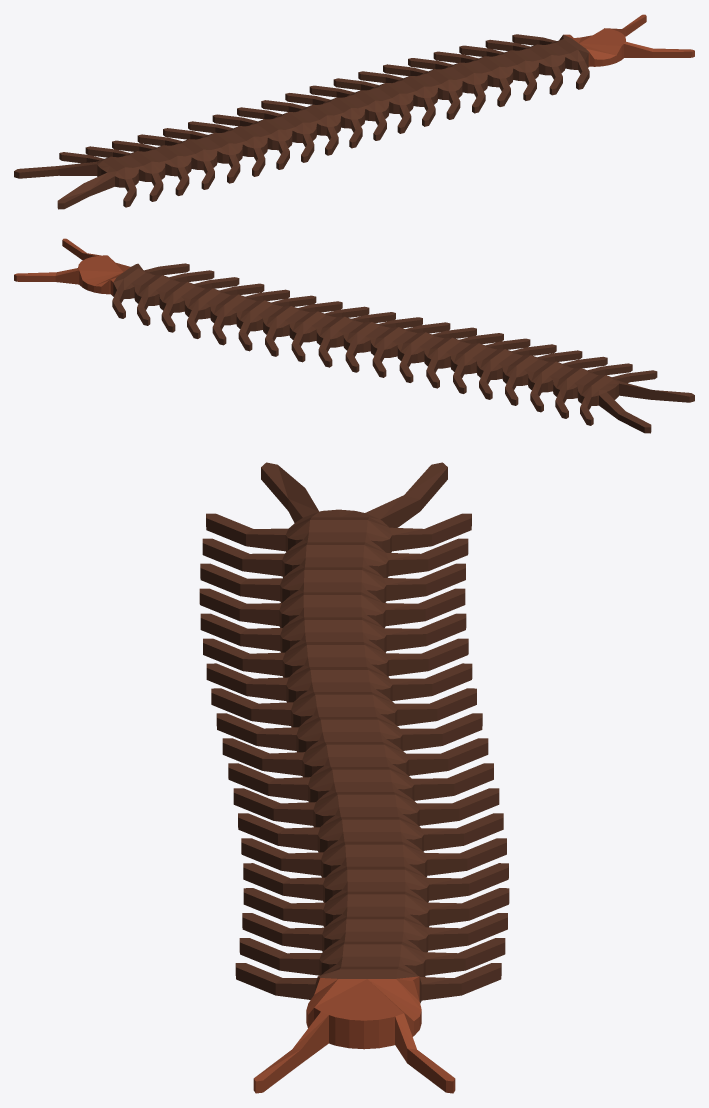
Rendered from NEW_RECOVERY_057_LOD0.glb.
3 renders of one model, top to bottom at view 1: azimuth 30°, elevation 25°; view 2: azimuth 150°, elevation 25°; view 3: azimuth 270°, elevation 25°, orthographic. The views are drawn at different scales.
Visible parts, largest first — view 1: Centipede_Whole; view 2: Centipede_Whole; view 3: Centipede_Whole.
Part boxes in pixels (bbox=[...]): Centipede_Whole: bbox=[14, 14, 694, 209]; Centipede_Whole: bbox=[14, 238, 694, 433]; Centipede_Whole: bbox=[199, 462, 509, 1093].
Bounding box in the file's own units: 10.67 × 0.2451 × 2.25.
